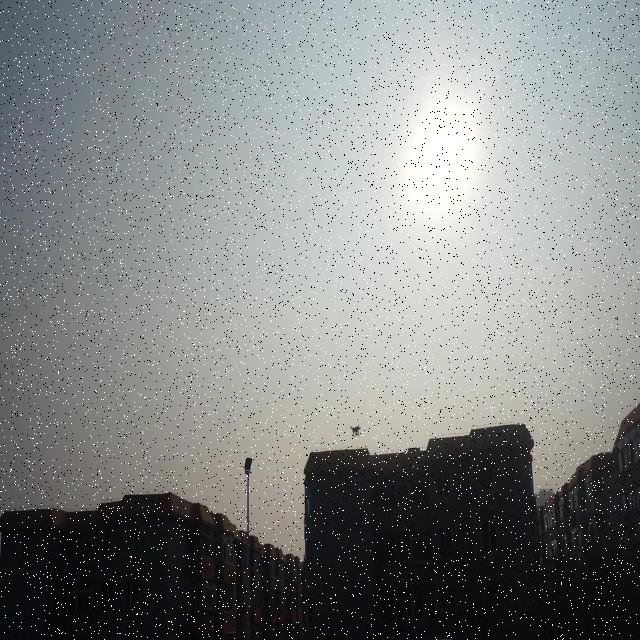UAV: (349, 424, 361, 438)
